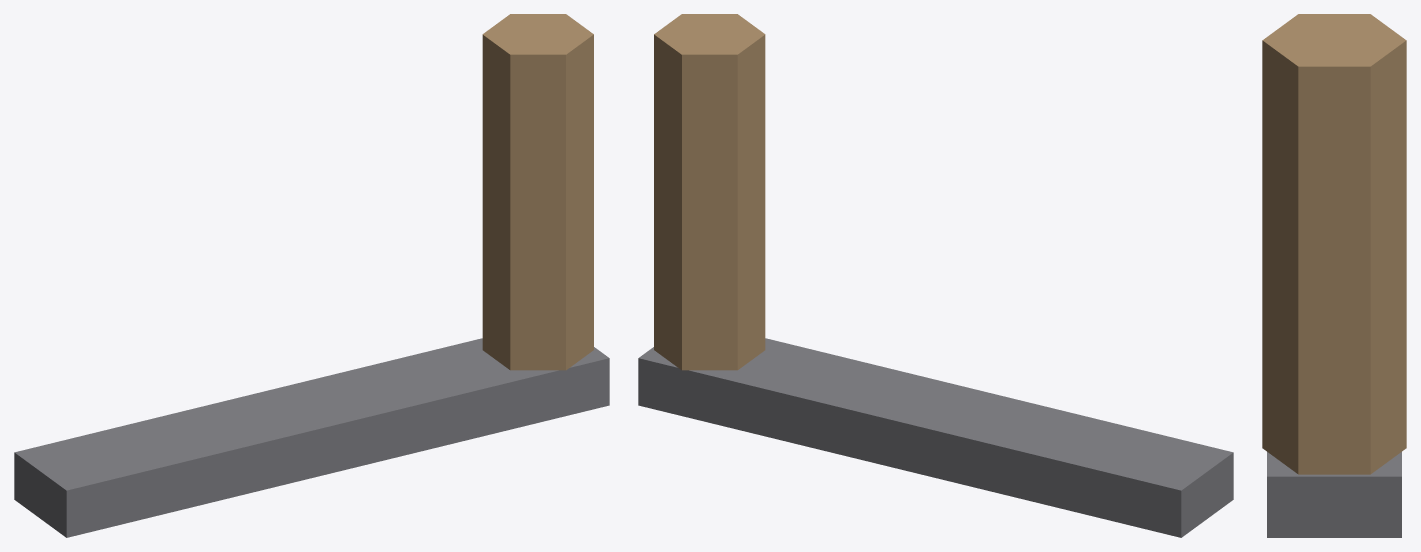
The model's file is prop-grindstone-crank-gf1.fbx.
3 renders of one model, left to right at view 1: azimuth 30°, elevation 25°; view 2: azimuth 150°, elevation 25°; view 3: azimuth 270°, elevation 25°, orthographic. The views are drawn at different scales.
Parts seen in each view (by area): view 1: prop-grindstone-crank-gf1; view 2: prop-grindstone-crank-gf1; view 3: prop-grindstone-crank-gf1.
Part boxes in pixels (<box>): prop-grindstone-crank-gf1: <box>14,14,609,537</box>; prop-grindstone-crank-gf1: <box>638,14,1233,537</box>; prop-grindstone-crank-gf1: <box>1262,14,1406,537</box>.
Bounding box in the file's own units: 18 × 11.5 × 3.2.
